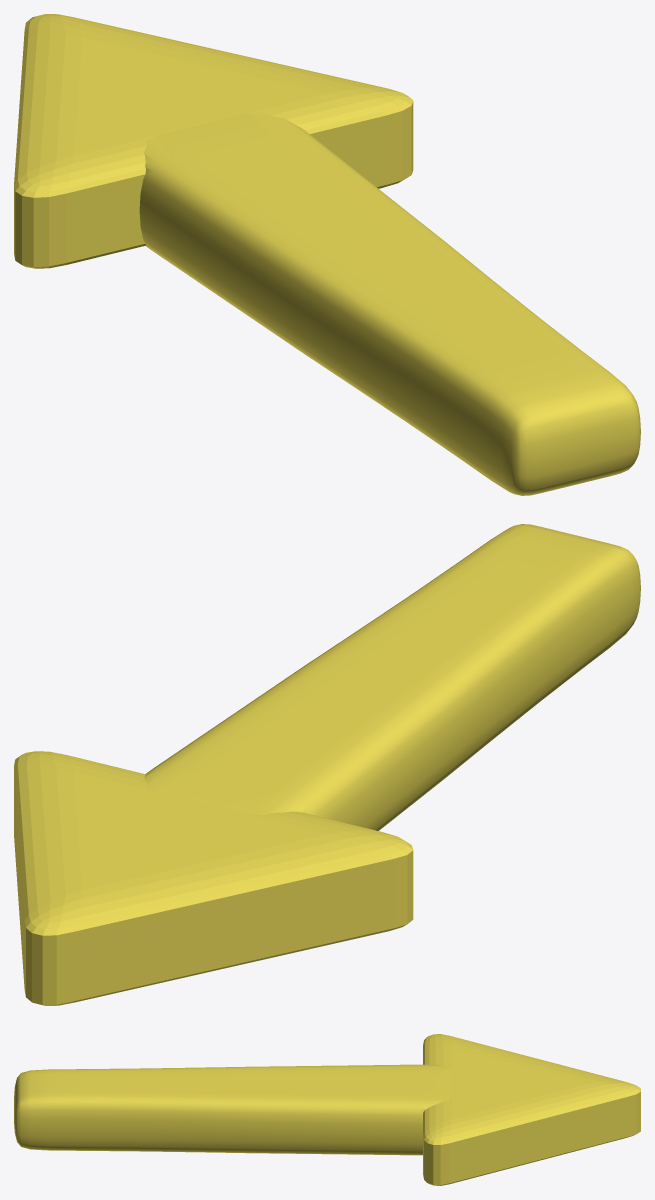
Rendered from arrow.glb.
The picture shows the model from 3 angles, top to bottom: view 1: azimuth 30°, elevation 25°; view 2: azimuth 150°, elevation 25°; view 3: azimuth 270°, elevation 25°; orthographic projection. The views are drawn at different scales.
Parts seen in each view (by area): view 1: Cube; view 2: Cube; view 3: Cube.
Boxes of the visible parts, box(x1,y1,x2,y2) form: Cube: box(14, 14, 640, 495); Cube: box(14, 524, 640, 1005); Cube: box(14, 1034, 640, 1185).
Bounding box in the file's own units: 1.77 × 0.4018 × 4.26.
